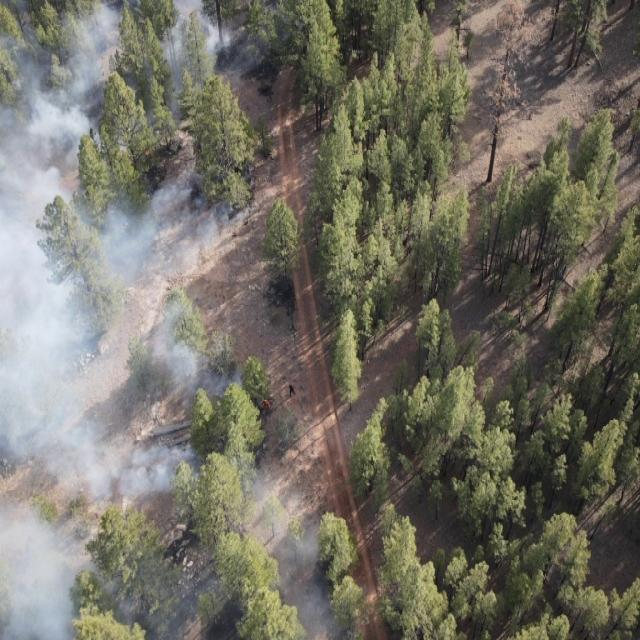fire: (257, 395, 273, 415), (142, 145, 154, 157)
smoke: (0, 474, 328, 640), (0, 284, 241, 474), (0, 129, 243, 283), (0, 0, 265, 128)
